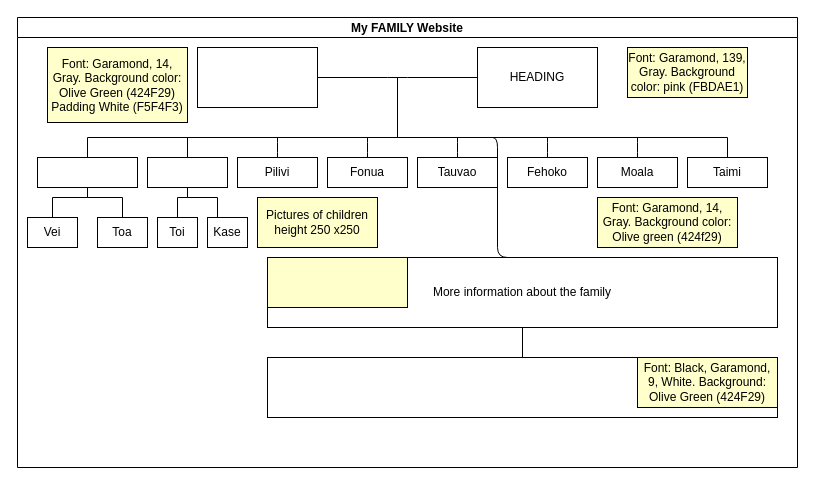
Image size: 815x485. Some labels were removed from this diagram. Here are the shapes that lost their labels. From the top down, the box of each, then its label:
(196, 46, 318, 108): NAVIGATION BAR
(36, 156, 138, 188): 'Ana and Samiu
(146, 156, 228, 188): Mo'ungaafi
(266, 256, 408, 308): Font: Garamond, 14, Gray. Background: Burnt Orange (BB5407)
(266, 356, 778, 418): Footer Email. phone number etc
